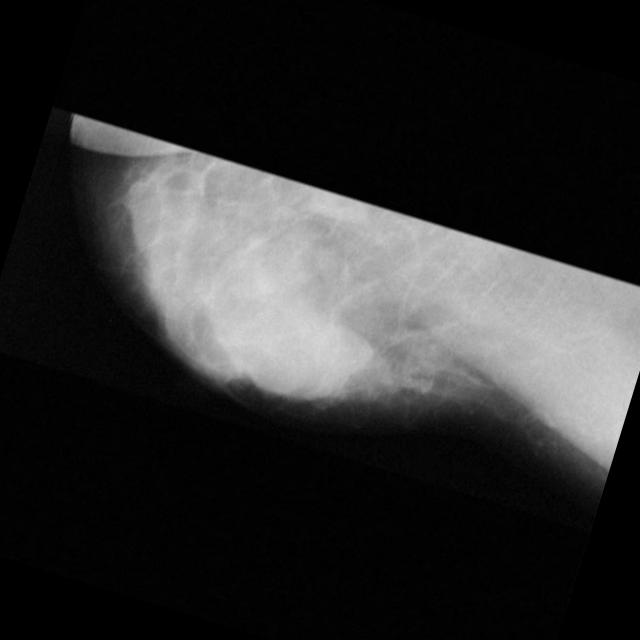CALC: (378, 356, 438, 416)
